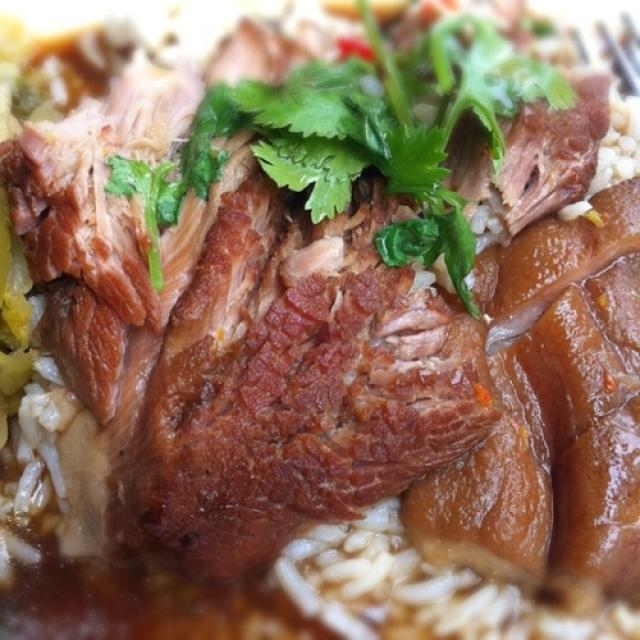猪肉菜式: (25, 53, 603, 592)
